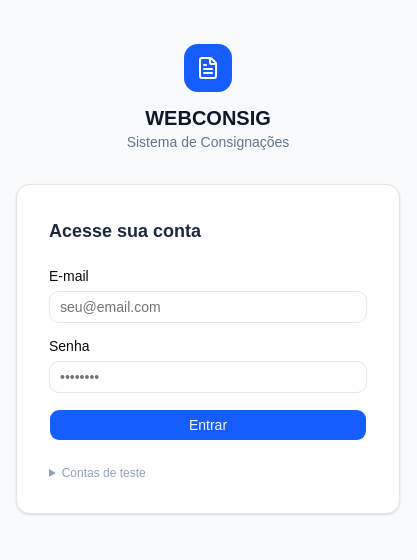
Test: LoginPage › shows validation error when submitted with empty fields
Click the button "Entrar" at [208, 425], box [49, 409, 367, 441]
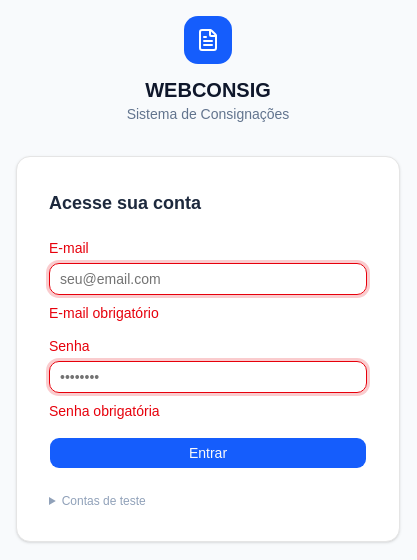
Check: the text "E-mail obrigatório" is shown, box [49, 305, 159, 321]
